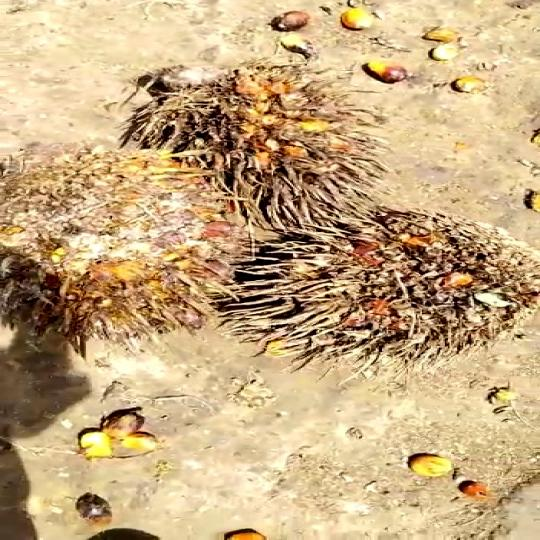terlalu masak: (0, 136, 247, 331), (224, 217, 539, 353), (118, 63, 374, 229)
